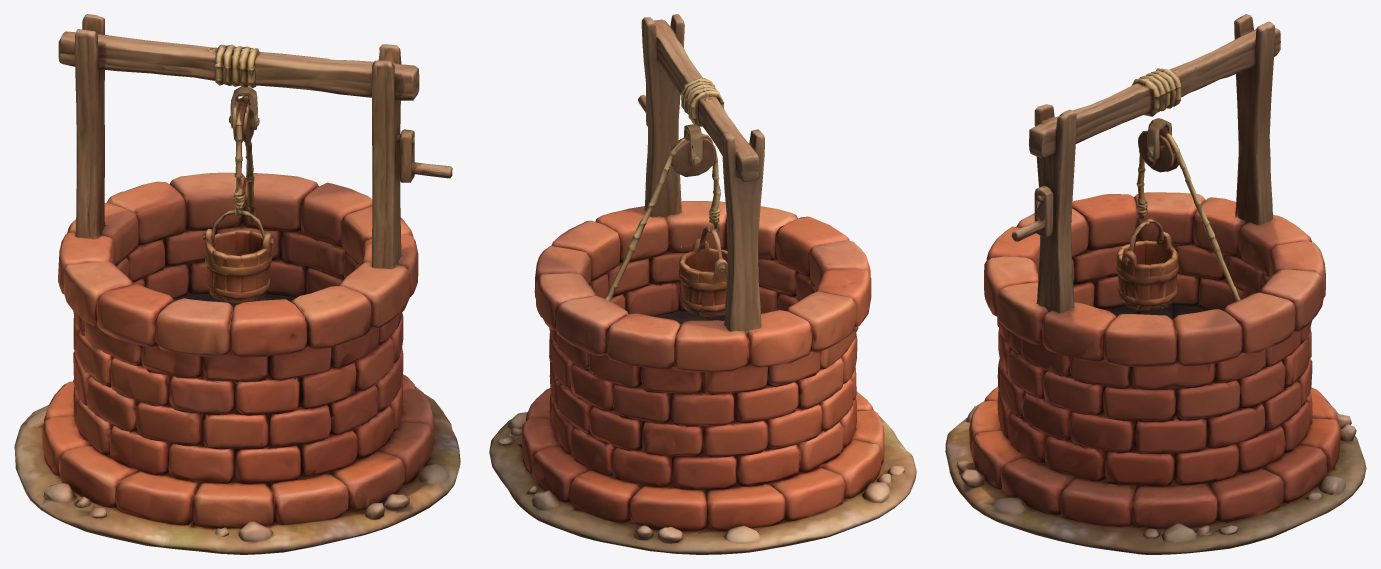
Rendered from gieng-lang.00d1eee6.glb.
3 views of the same model, side by side, from view 1: azimuth 30°, elevation 25°; view 2: azimuth 150°, elevation 25°; view 3: azimuth 270°, elevation 25° (orthographic). The views are drawn at different scales.
Parts seen in each view (by area): view 1: tripo_node_fb805553-52f2-4185-b9ef-6fc1e2ca0178; view 2: tripo_node_fb805553-52f2-4185-b9ef-6fc1e2ca0178; view 3: tripo_node_fb805553-52f2-4185-b9ef-6fc1e2ca0178.
Part boxes in pixels (x1=…): tripo_node_fb805553-52f2-4185-b9ef-6fc1e2ca0178: x1=14, y1=14, x2=460, y2=554; tripo_node_fb805553-52f2-4185-b9ef-6fc1e2ca0178: x1=489, y1=14, x2=916, y2=554; tripo_node_fb805553-52f2-4185-b9ef-6fc1e2ca0178: x1=945, y1=14, x2=1366, y2=554.
Bounding box in the file's own units: 0.9776 × 0.9784 × 0.9305.
Materials: 1 (1 with a texture image).
